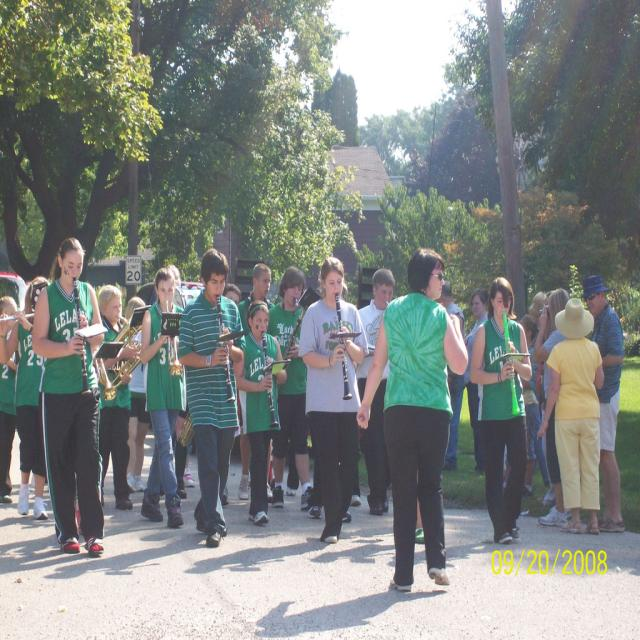clarinet: (70, 278, 92, 398), (501, 312, 523, 418), (332, 292, 353, 402), (260, 329, 280, 431)
saxophone: (279, 296, 306, 366)
